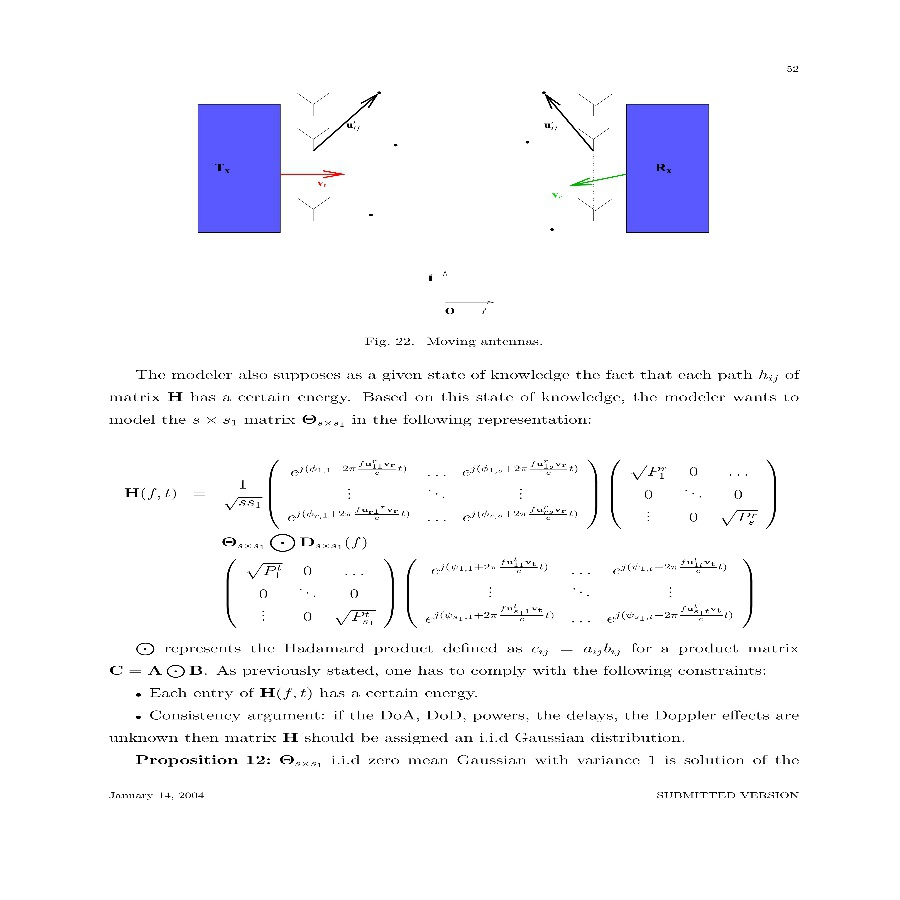eq: (113, 452, 783, 634), (107, 660, 204, 679)
